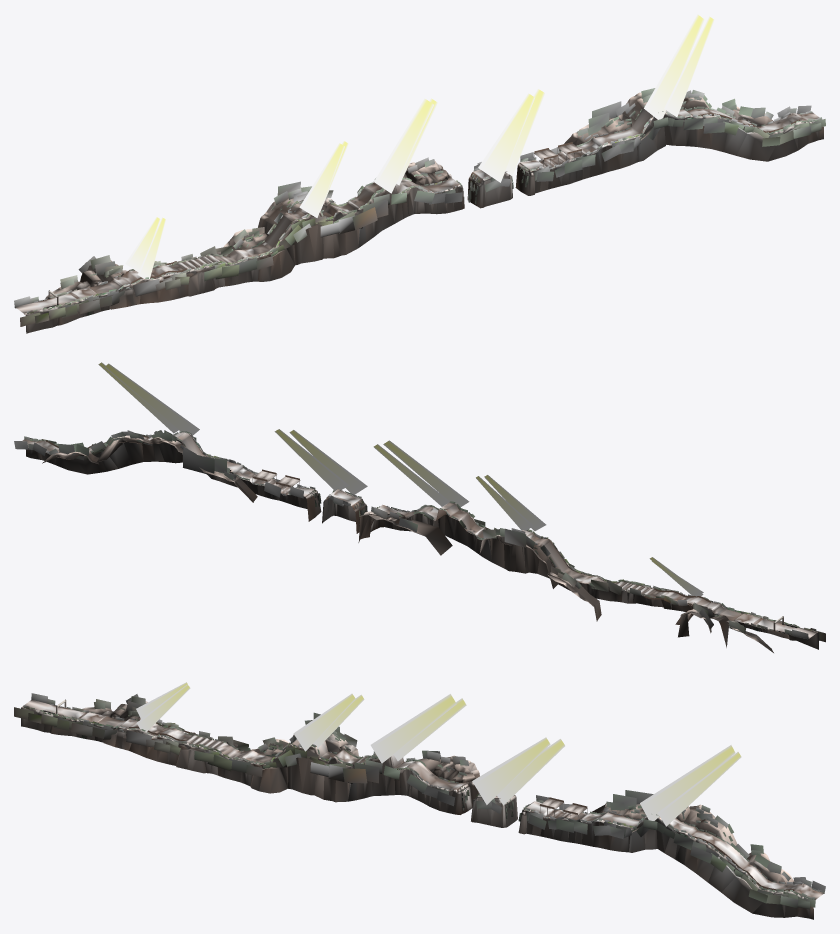
File: Forest_15.fbx
3 renders of one model, top to bottom at view 1: azimuth 30°, elevation 25°; view 2: azimuth 150°, elevation 25°; view 3: azimuth 330°, elevation 25°, orthographic.
Visible parts, largest first — view 1: Mountain_05, Tree_01_A, Light_01, Ground_01; view 2: Mountain_05, Tree_01_A, Light_01, Ground_01; view 3: Mountain_05, Tree_01_A, Light_01, Ground_01, Leak_A1.
Part boxes in pixels (<box>): Mountain_05: <box>24,92,823,333</box>; Tree_01_A: <box>14,88,825,326</box>; Light_01: <box>125,14,714,278</box>; Ground_01: <box>15,107,819,314</box>; Mountain_05: <box>26,432,819,652</box>; Tree_01_A: <box>14,430,825,642</box>; Light_01: <box>98,362,703,596</box>; Ground_01: <box>22,432,817,639</box>; Mountain_05: <box>21,701,813,919</box>; Tree_01_A: <box>14,693,825,909</box>; Light_01: <box>136,682,741,826</box>; Ground_01: <box>23,700,824,899</box>; Leak_A1: <box>129,722,794,890</box>.
Size of the model in its own units: 67859 by 11428 by 4631.
